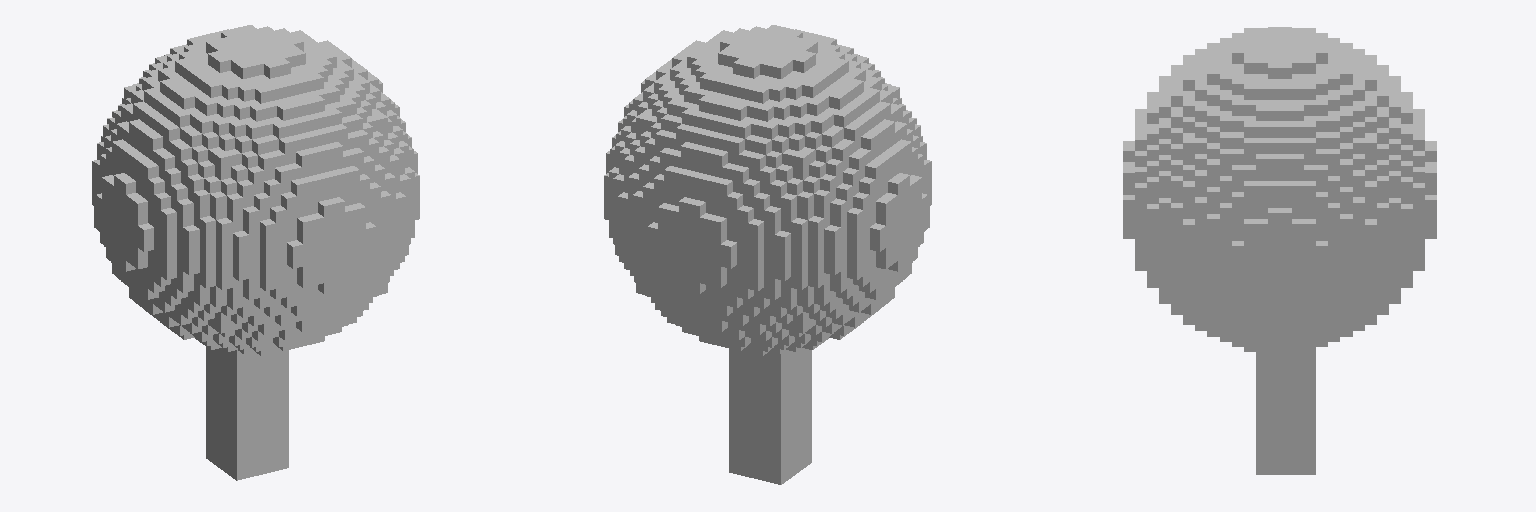
Rendered from tree_2.obj.
The picture shows the model from 3 angles: view 1: azimuth 30°, elevation 25°; view 2: azimuth 150°, elevation 25°; view 3: azimuth 270°, elevation 25°; orthographic projection.
Parts seen in each view (by area): view 1: object 1; view 2: object 1; view 3: object 1.
Part boxes in pixels (x1,y1,x2,y2): object 1: (92, 25, 419, 480); object 1: (604, 25, 931, 484); object 1: (1123, 27, 1436, 474).
Bounding box in the file's own units: 2.6 × 3.8 × 2.6.